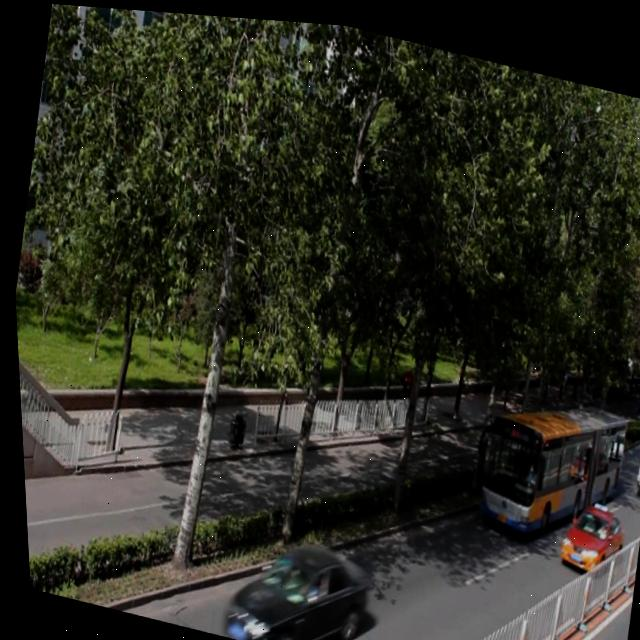car: (213, 521, 367, 640), (549, 488, 623, 571)
van: (467, 374, 629, 544)
